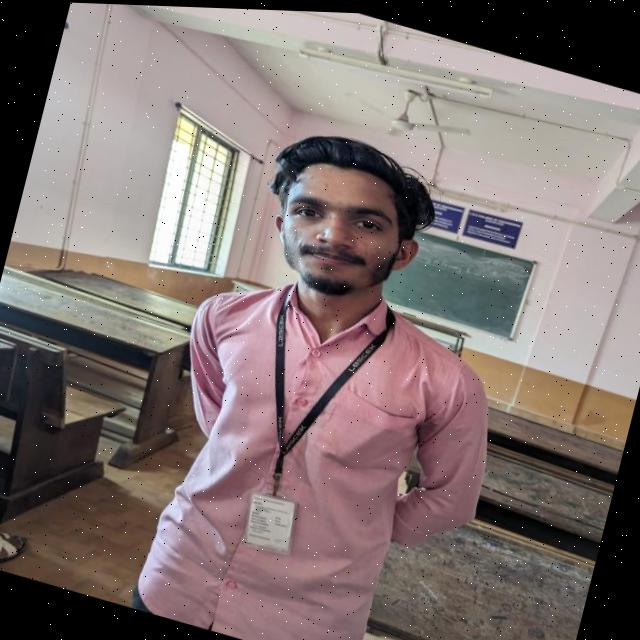id_card: (210, 268, 401, 573)
